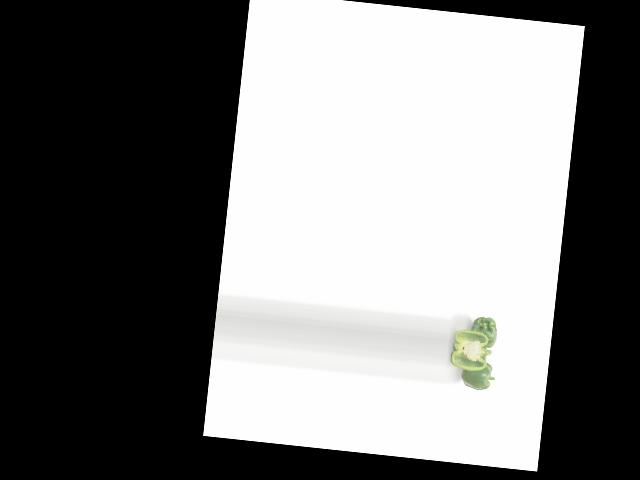bell_pepper: (465, 312, 501, 351)
